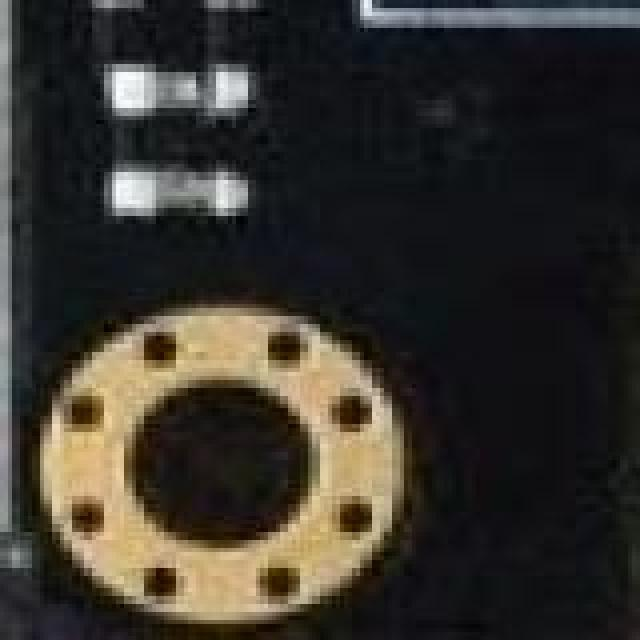connector: (624, 192, 640, 636)
relay: (324, 0, 640, 8)
resistor: (116, 168, 254, 232), (112, 60, 248, 124)
transistor: (80, 0, 324, 52)
